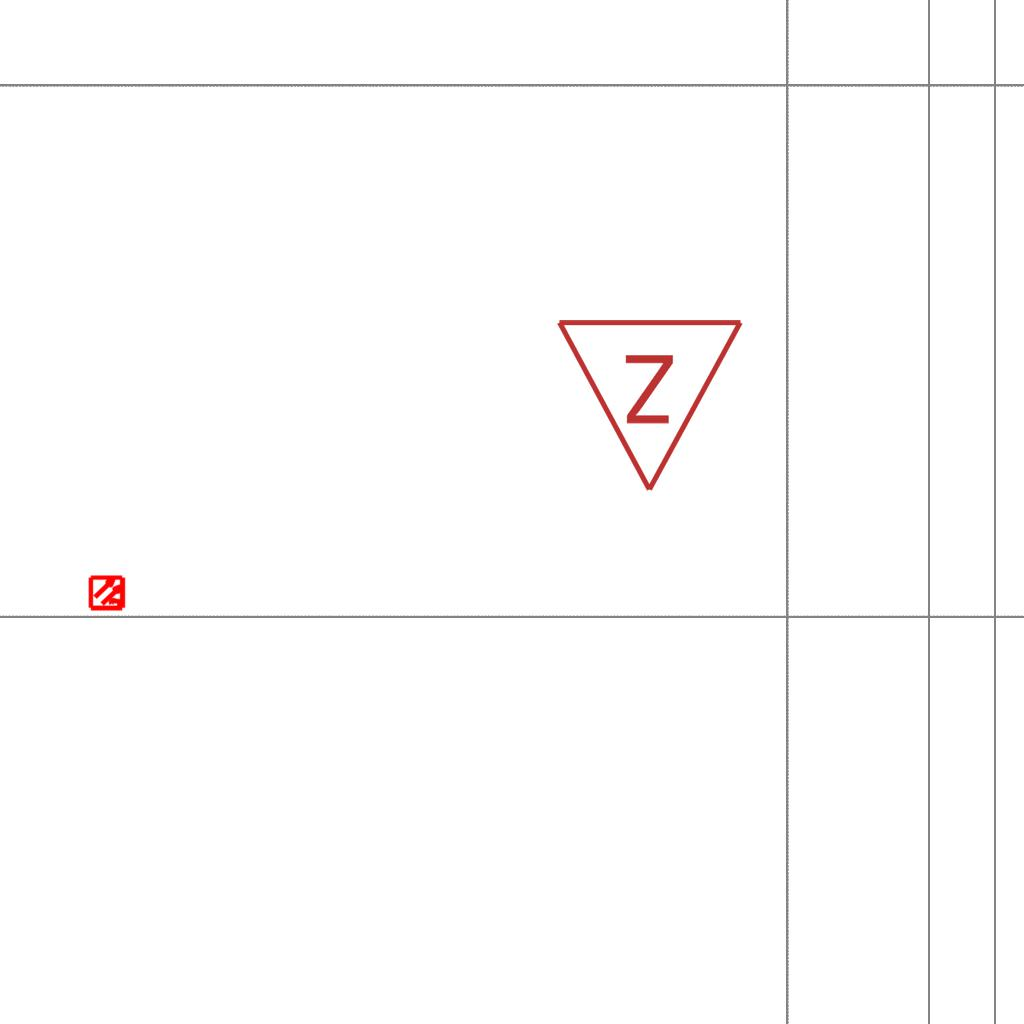OT_Multisensormelder_(Kombination_RMO_WMD): (80, 565, 136, 621)
Zimmersignalleuchte: (554, 305, 750, 505)
